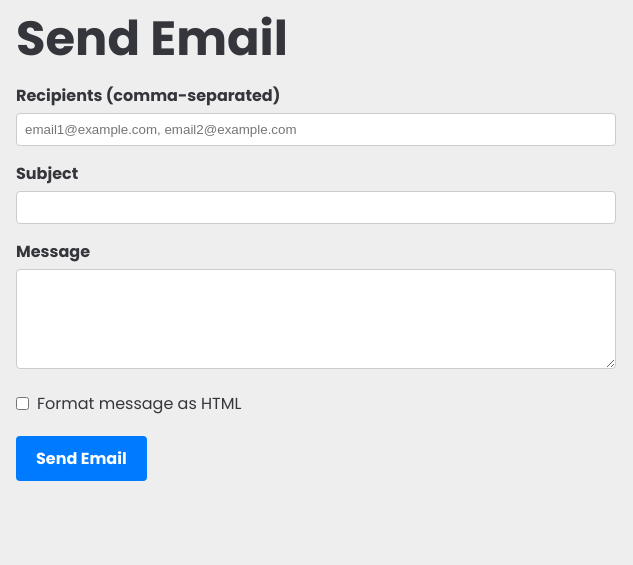
Test: EmailForm › shows caught network error
Type "a@example.com" into the field labelled "Recipients (comma-separated)".
click(316, 130); type("a@example.com")  # box [16,113,616,146]
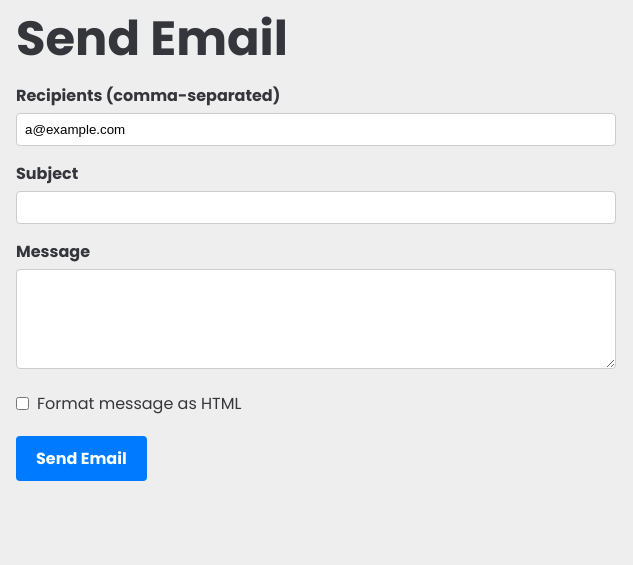
Type "Hello" into the field labelled "Subject".
click(316, 208); type("Hello")  # box [16,191,616,224]
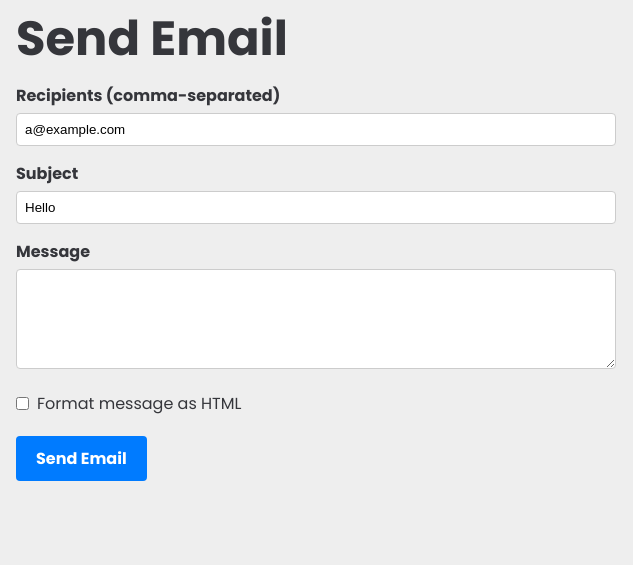
Type "Body" into the text box labelled "Message".
click(316, 319); type("Body")  # box [16,269,616,369]
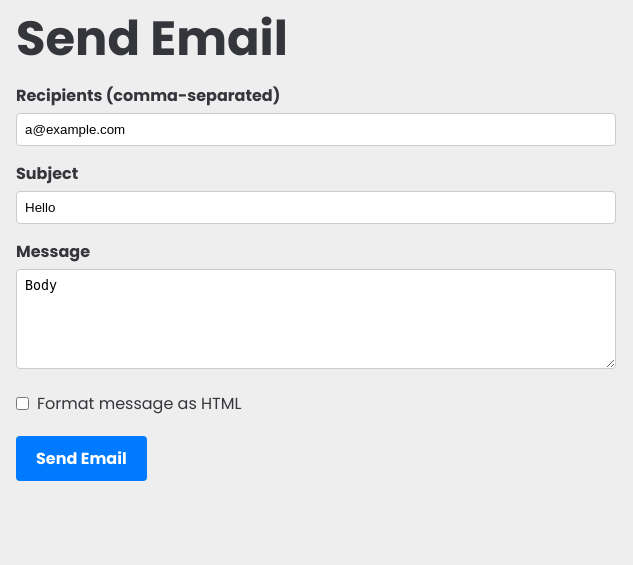
Submit the form
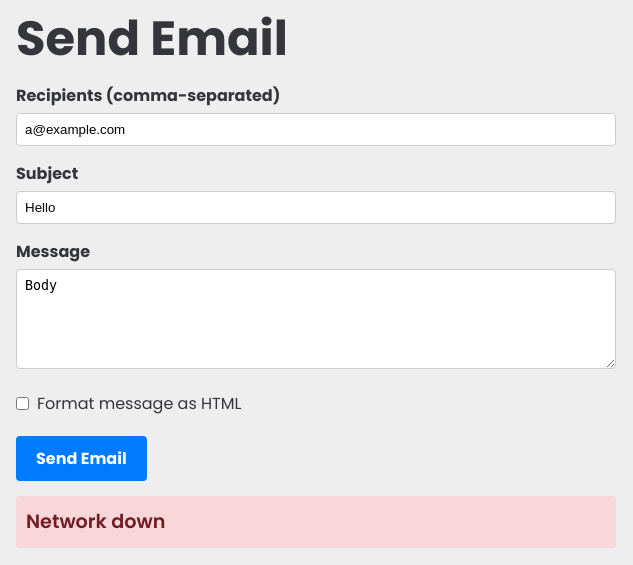
Expected: the text "Network down" is shown, [16,496,616,548]
